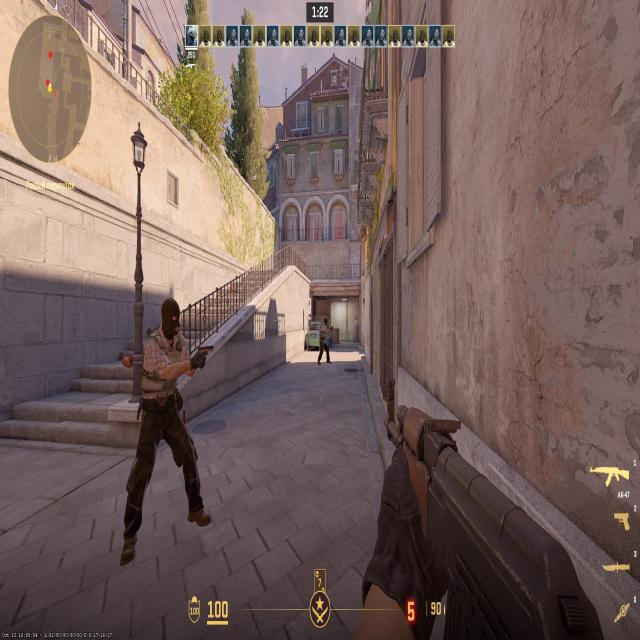T: (157, 302, 186, 474), (322, 319, 328, 362)
T_heat: (160, 303, 177, 342), (322, 322, 328, 332)
